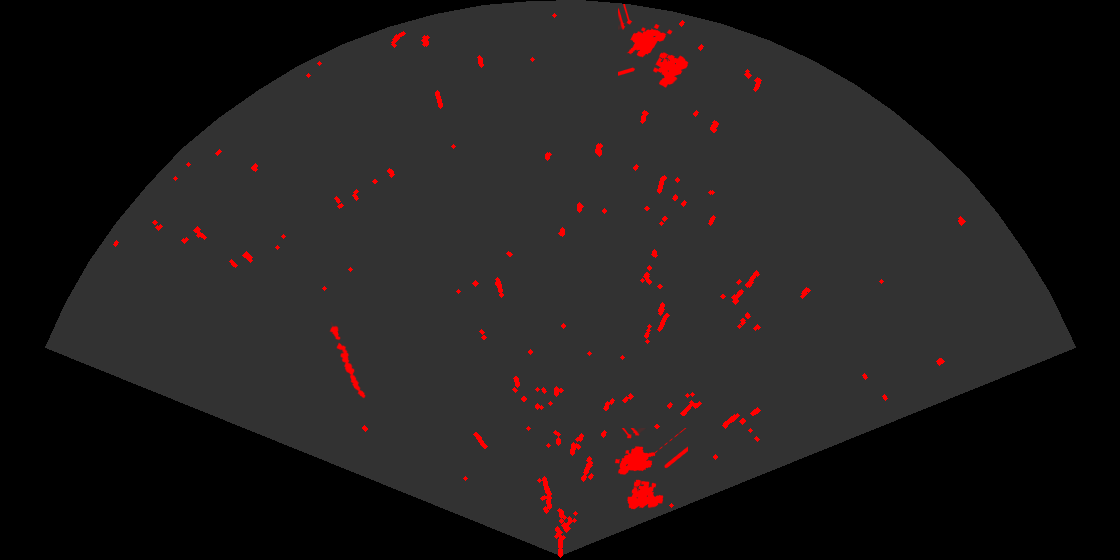cage: (613, 428, 688, 511), (618, 4, 690, 89)
chain: (328, 322, 367, 400)
